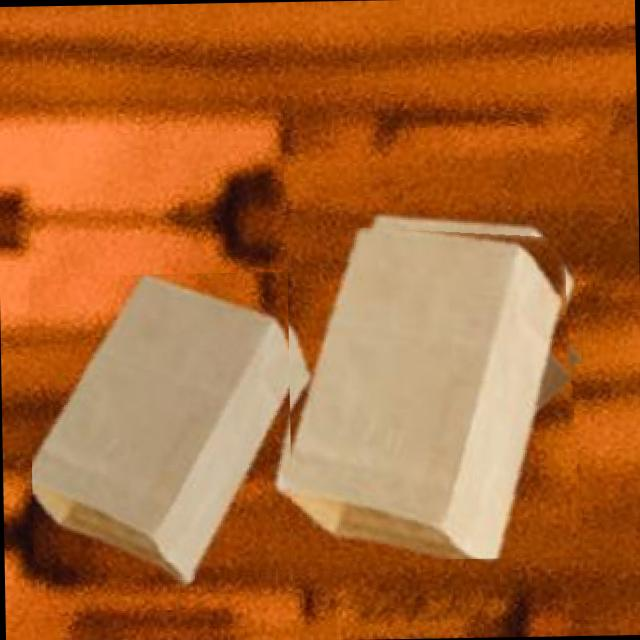PaperCardboard: (291, 226, 567, 558), (31, 273, 301, 576)
